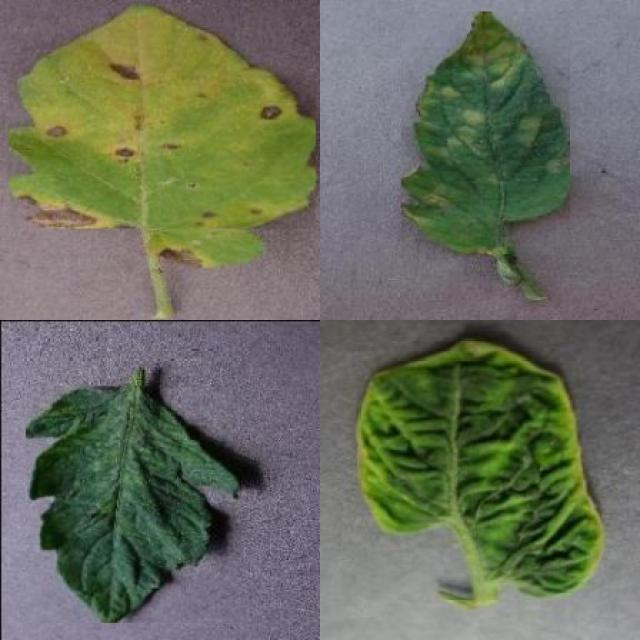Leaf Mold: (401, 12, 570, 254)
Mosaic Virus: (26, 386, 241, 624)
Septoria: (8, 4, 316, 229)
Yellow Leaf Curl Virus: (357, 340, 602, 600)
